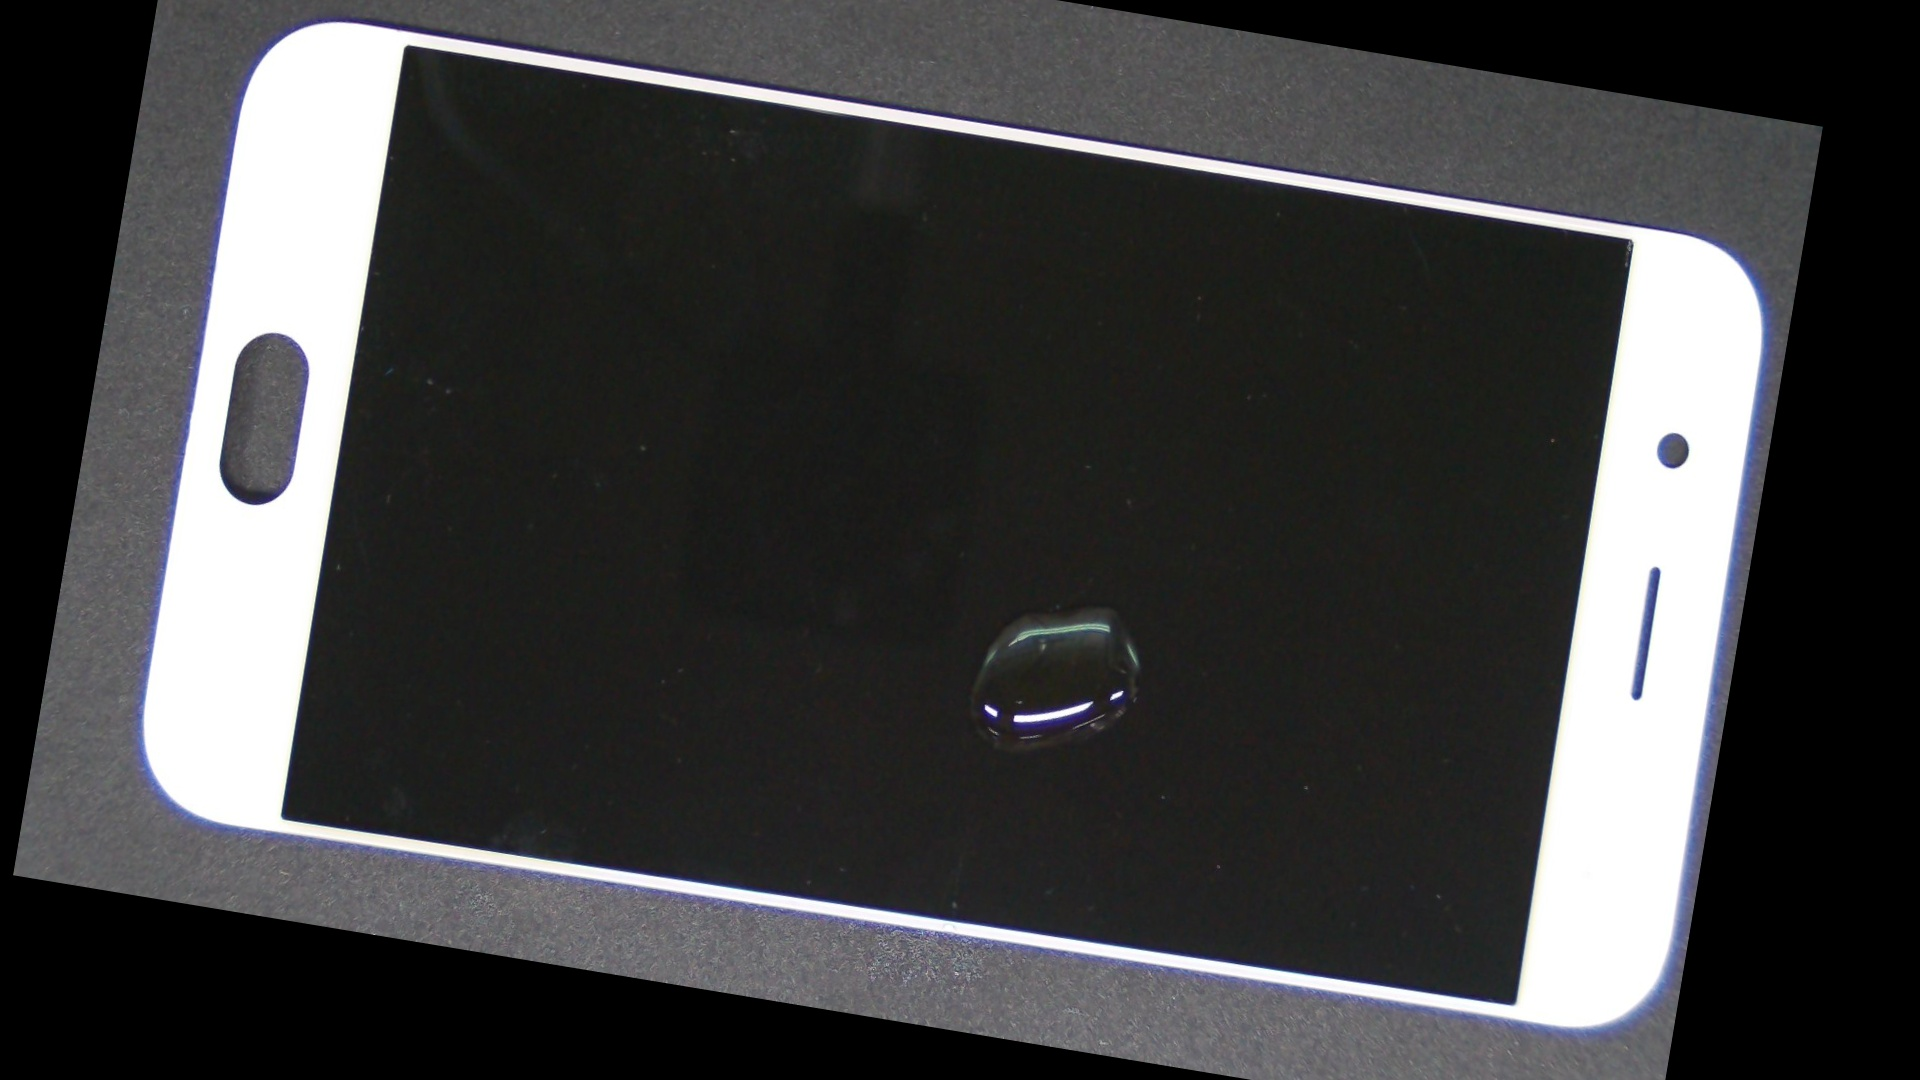oil: (551, 231, 1676, 985)
